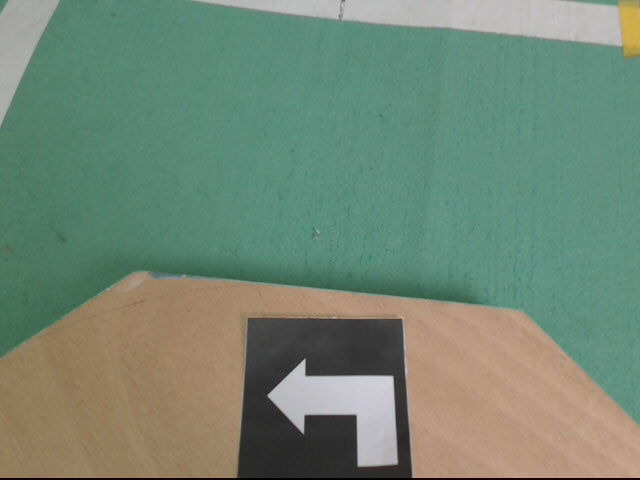left: (238, 316, 414, 467)
